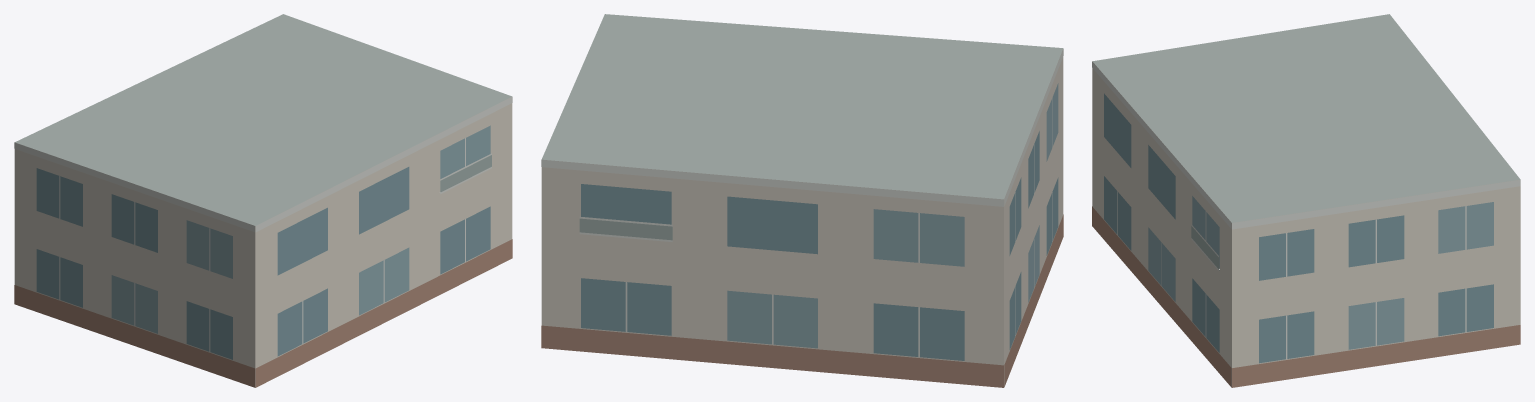
File: survey-upis-33035064.glb
3 renders of one model, left to right at view 1: azimuth 30°, elevation 25°; view 2: azimuth 150°, elevation 25°; view 3: azimuth 270°, elevation 25°, orthographic. The views are drawn at different scales.
Visible parts, largest first — view 1: survey-upis-33035064.tmp; view 2: survey-upis-33035064.tmp; view 3: survey-upis-33035064.tmp.
Boxes of the visible parts, x1,y1,x2,y2 form: survey-upis-33035064.tmp: [14, 14, 512, 387]; survey-upis-33035064.tmp: [541, 14, 1063, 387]; survey-upis-33035064.tmp: [1092, 14, 1520, 387].
Size of the model in its own units: 16.59 by 6.1 by 14.37.
